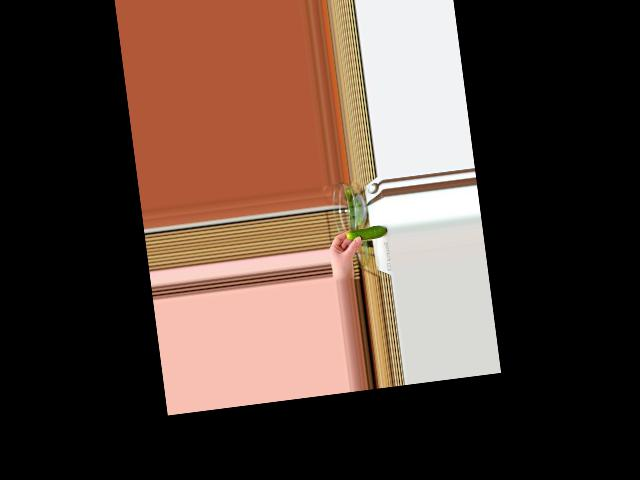cucumber: (345, 224, 387, 242)
